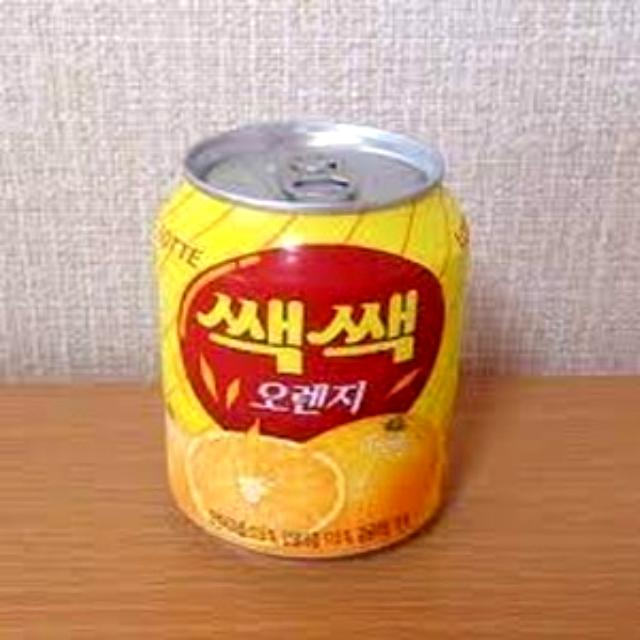Metal: (151, 118, 469, 558)
